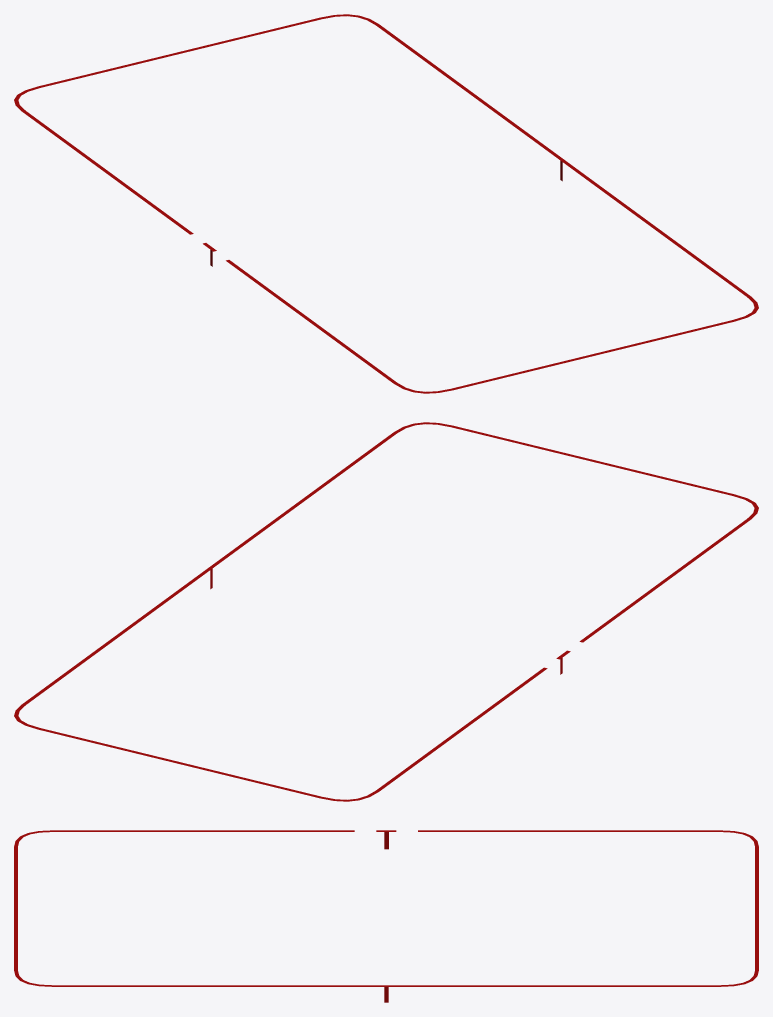
File: IceRinkTopEdge.FBX
The picture shows the model from 3 angles, top to bottom: view 1: azimuth 30°, elevation 25°; view 2: azimuth 150°, elevation 25°; view 3: azimuth 270°, elevation 25°; orthographic projection. The views are drawn at different scales.
Parts seen in each view (by area): view 1: RinkTopEdge; view 2: RinkTopEdge; view 3: RinkTopEdge.
Boxes of the visible parts, bbox=[...] form: RinkTopEdge: bbox=[14, 14, 758, 393]; RinkTopEdge: bbox=[14, 422, 758, 801]; RinkTopEdge: bbox=[14, 830, 758, 1002].
Size of the model in its own units: 26.18 by 1.36 by 52.64.
